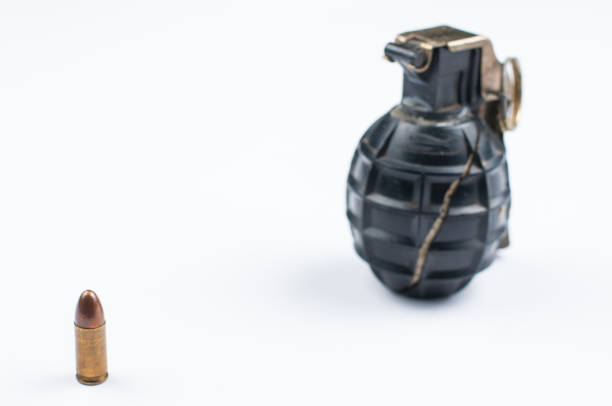e1: (340, 23, 524, 303)
